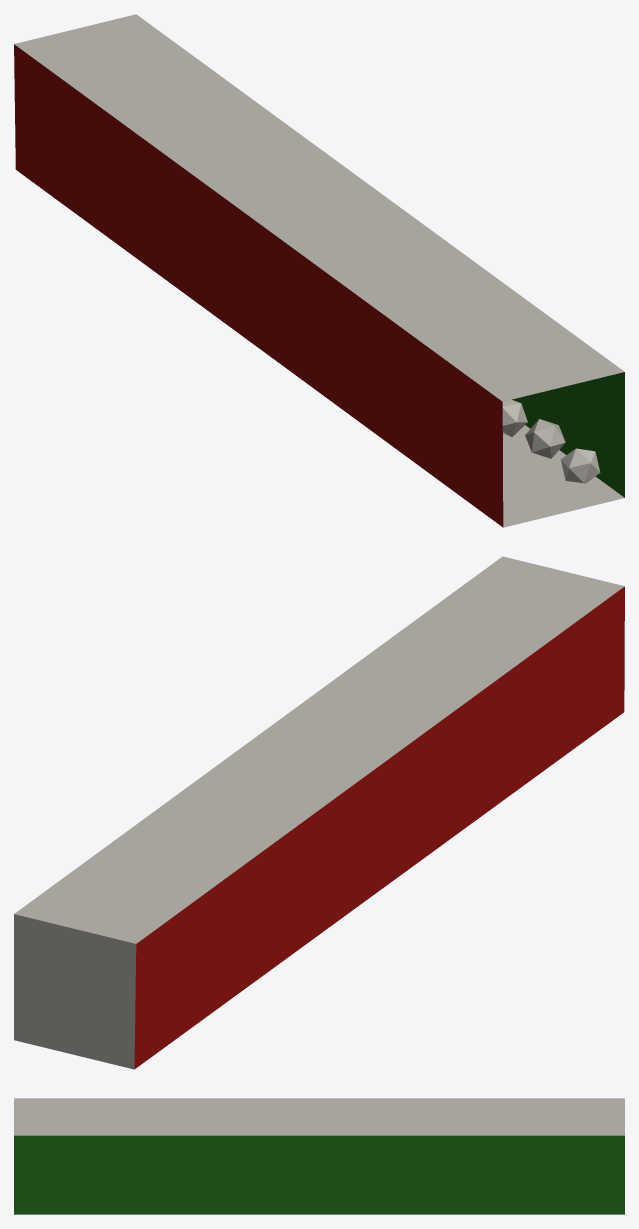
Rendered from CornellBoxDOF.obj.
The picture shows the model from 3 angles, top to bottom: view 1: azimuth 30°, elevation 25°; view 2: azimuth 150°, elevation 25°; view 3: azimuth 270°, elevation 25°; orthographic projection. The views are drawn at different scales.
Parts seen in each view (by area): view 1: leftWall, ceiling, rightWall, floor, Random_0.1; view 2: leftWall, ceiling, backWall; view 3: rightWall, ceiling.
Part boxes in pixels (x1,y1,x2,y2): leftWall: [14, 44, 503, 527]; ceiling: [14, 14, 624, 401]; rightWall: [512, 372, 624, 497]; floor: [503, 425, 624, 527]; Random_0.1: [502, 399, 600, 483]; leftWall: [134, 586, 624, 1069]; ceiling: [14, 556, 624, 943]; backWall: [14, 914, 136, 1069]; rightWall: [14, 1135, 624, 1214]; ceiling: [14, 1098, 624, 1135].
Size of the model in its own units: 2.02 by 1.99 by 13.98.
